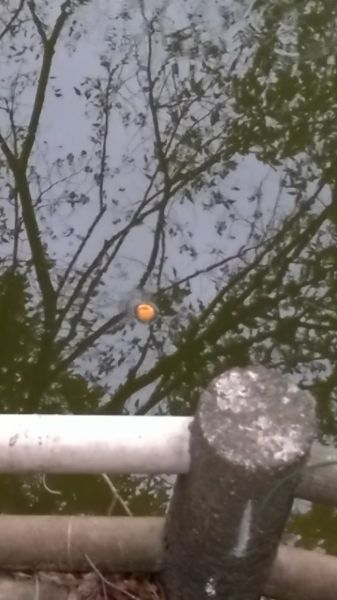eggs: (133, 302, 160, 324)
